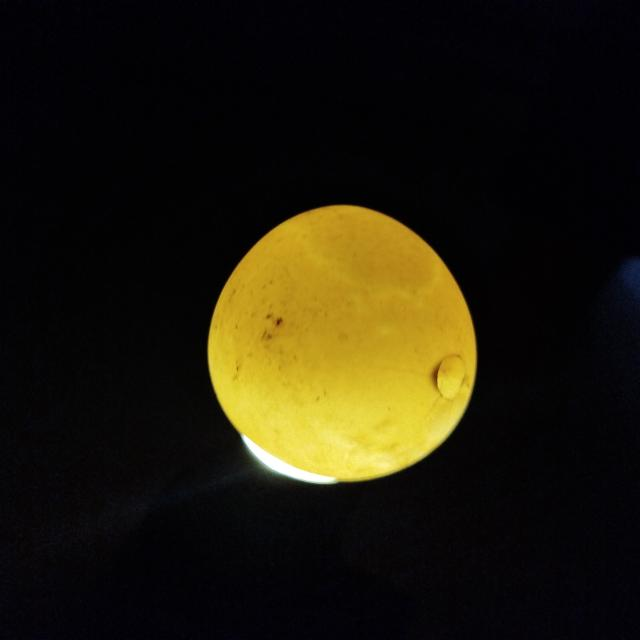Camara de Ar: (292, 205, 441, 295)
Rachadura: (376, 333, 466, 418)
